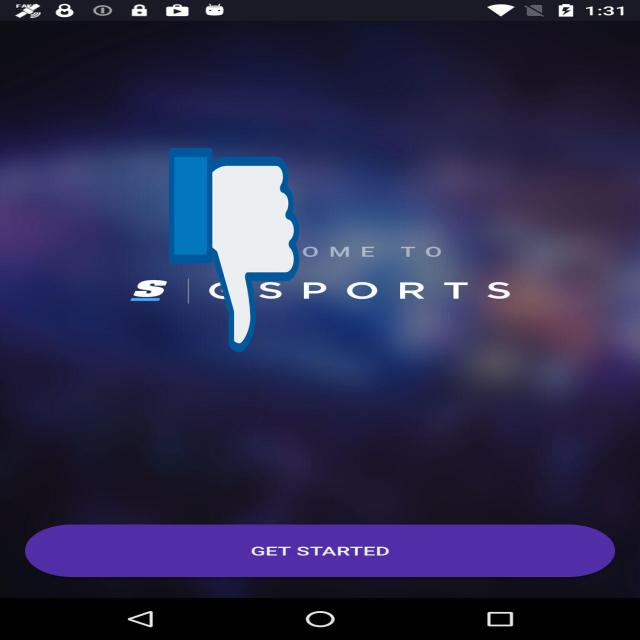obstruction: (169, 144, 299, 356)
